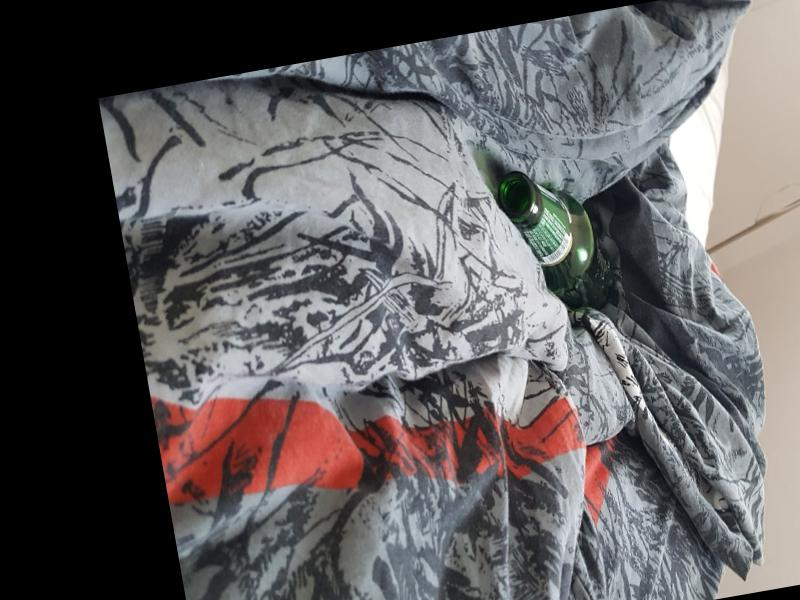Beer: (492, 156, 619, 326)
